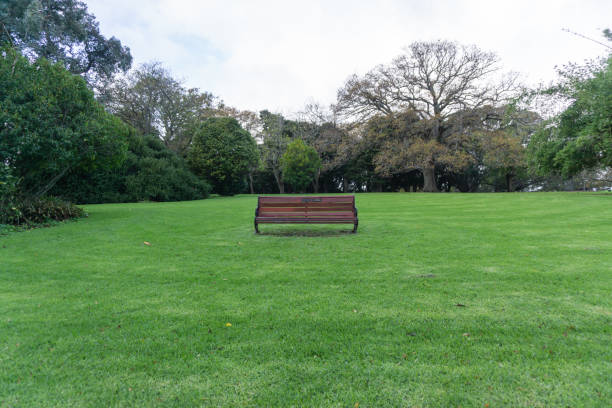bench: (252, 191, 361, 241)
